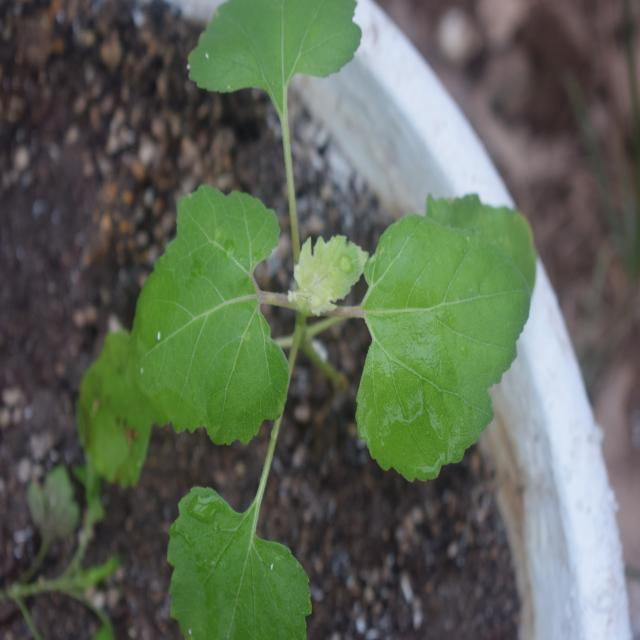cocklebur: (144, 0, 530, 619)
